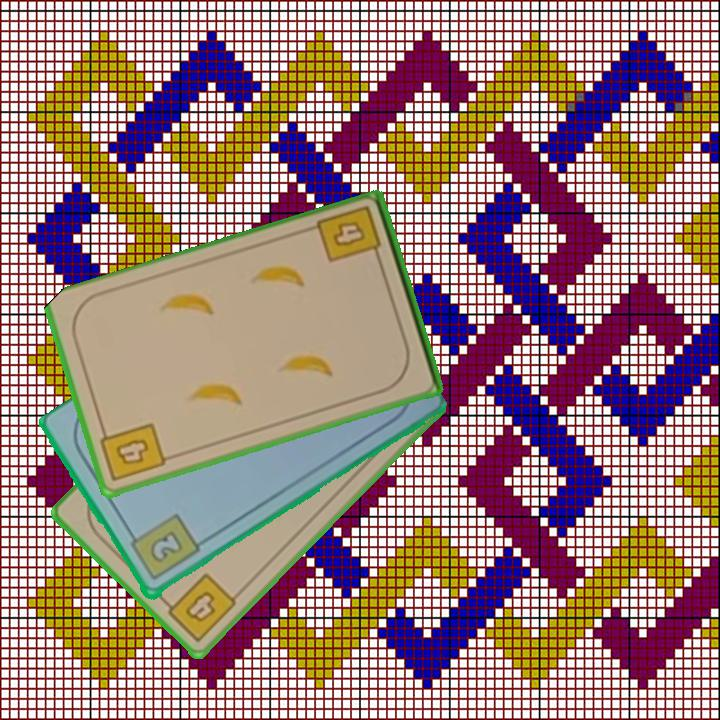2b: (125, 511, 203, 584)
4b: (158, 570, 240, 646), (97, 419, 169, 485), (314, 202, 384, 267)
